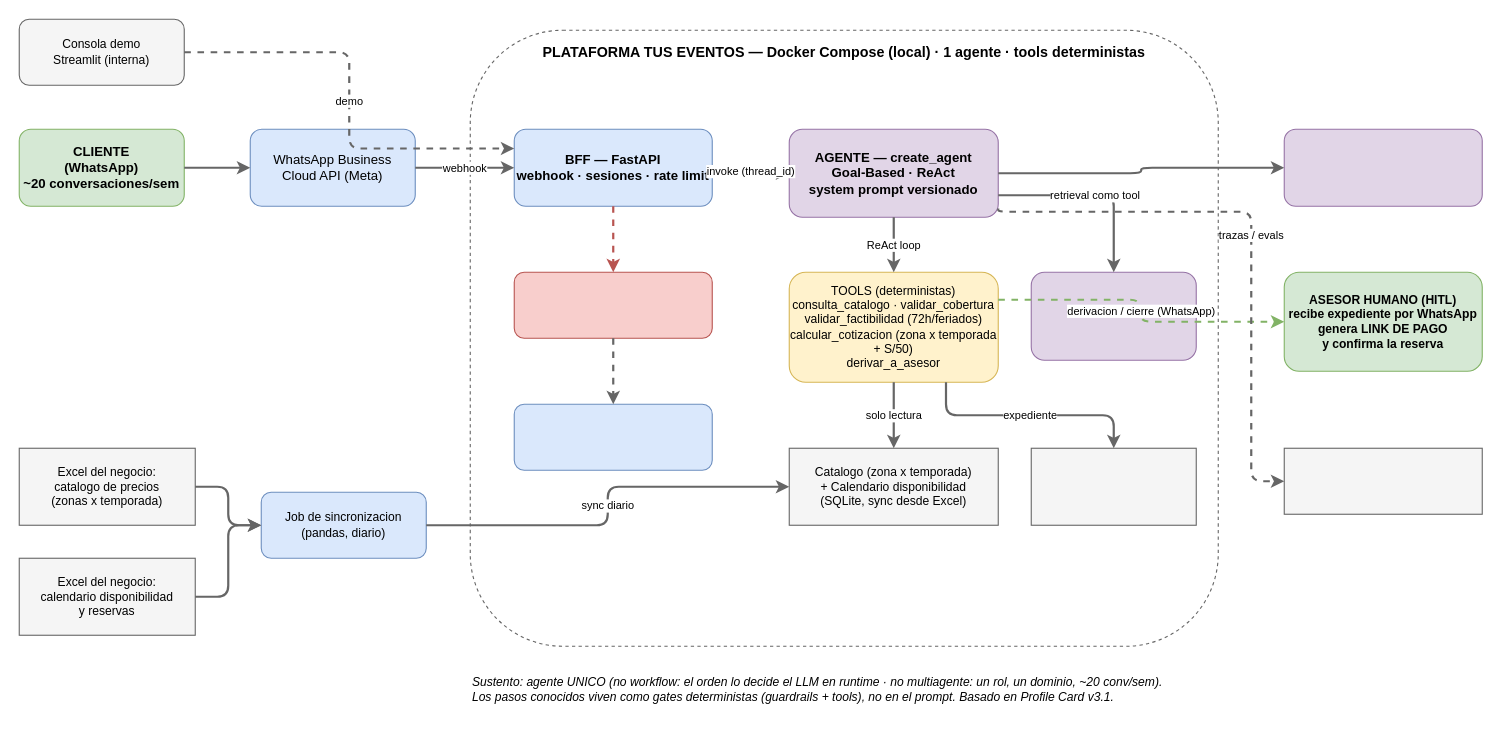
Some shapes in this 1502 by 743 pixel diagram are drawn without their labels. The shapes that lost their labels are listed below. From the top down, each one's centre as x and y in pixels, then its label:
At [1382,167]: "LLM: OpenAI gpt-4o-mini (intercambiable via .env)".
At [612,304]: "GUARDRAILS E/S (software) scope · anti-injection · filtro PII".
At [1113,315]: "Chroma (Agentic RAG) FAQ · politicas · condiciones (conocimiento/)".
At [612,436]: "Checkpointer SQLite memoria corto plazo (thread_id)".
At [1113,486]: "DB expedientes (PII minima, por etapa)".
At [1382,480]: "LangSmith trazas · tokens · evals".
